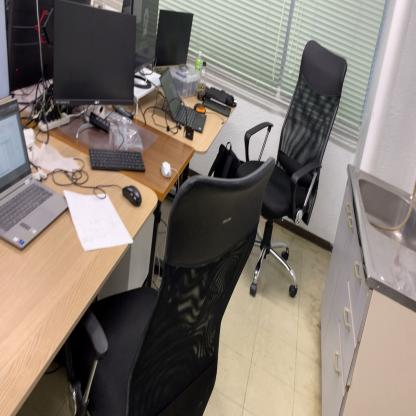chair: (67, 155, 276, 416), (240, 38, 349, 298)
